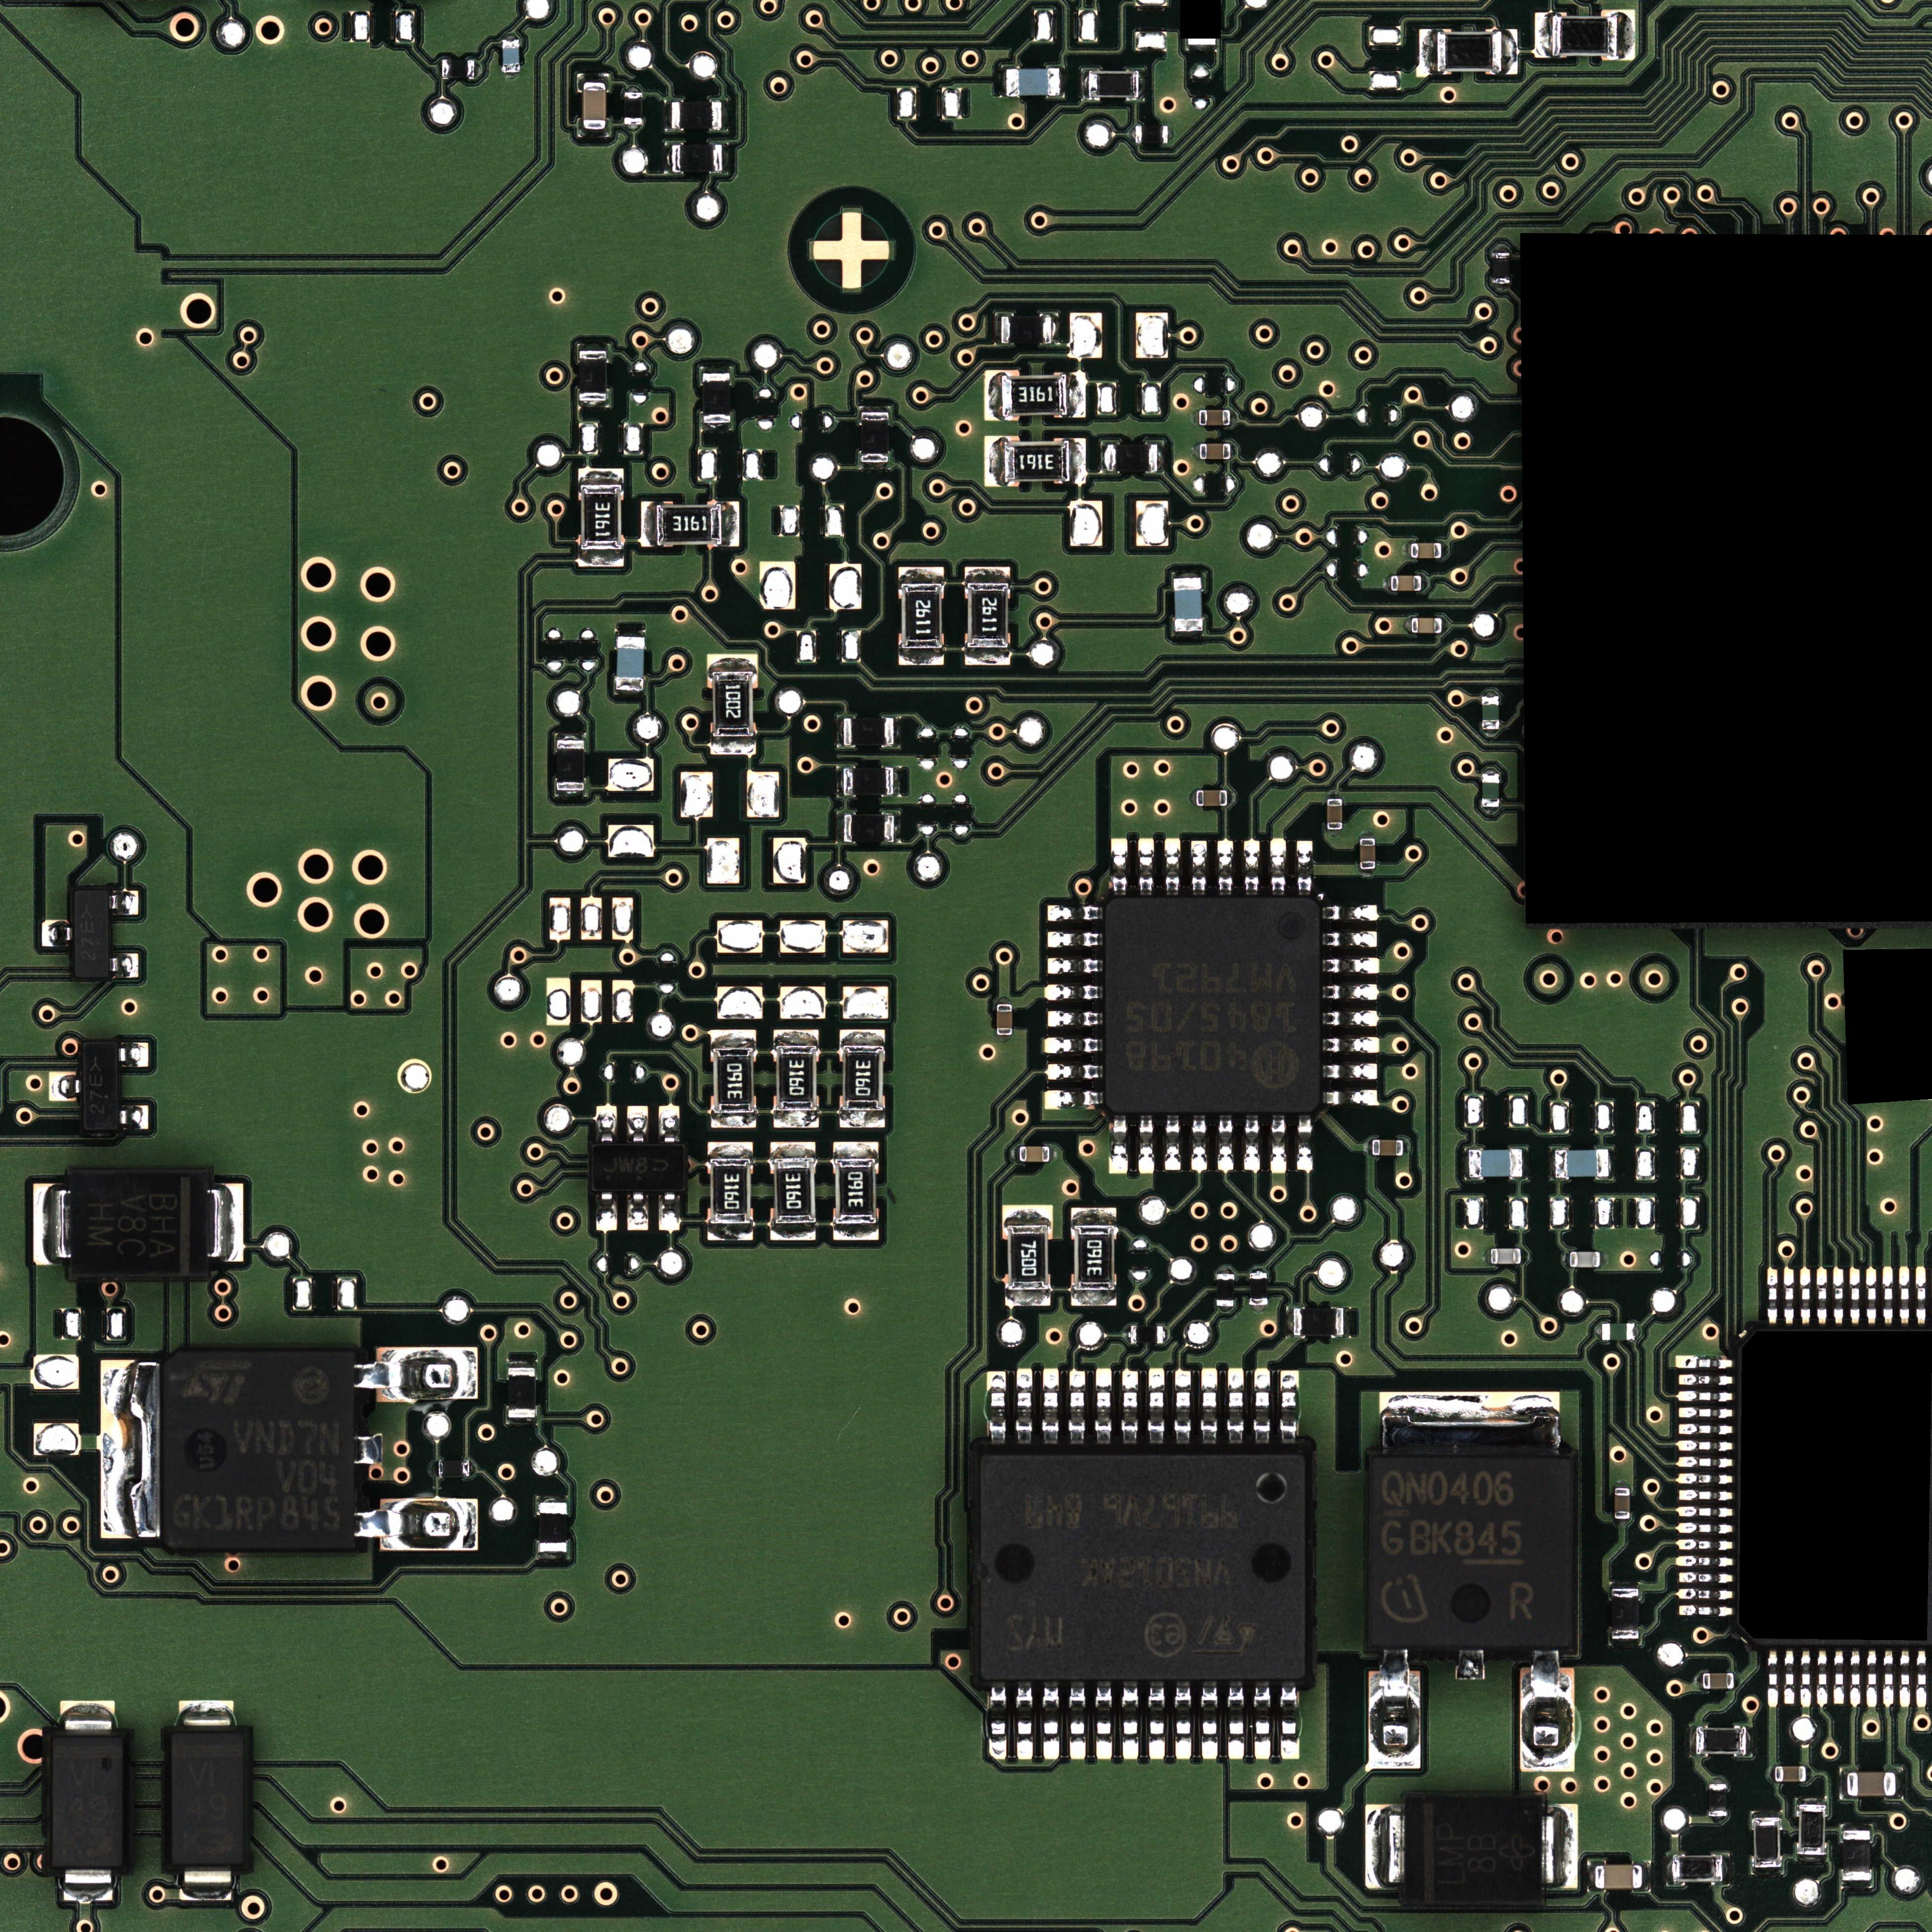Package: (980, 1453, 1304, 1683), (1104, 897, 1320, 1113), (1369, 1456, 1573, 1649), (165, 1348, 352, 1548), (1405, 1796, 1543, 1905), (71, 1171, 207, 1279), (172, 1732, 246, 1865), (51, 1736, 124, 1868), (591, 1143, 686, 1192), (74, 890, 110, 978), (83, 1042, 119, 1131), (1001, 375, 1067, 418), (711, 672, 754, 736), (1007, 1226, 1049, 1290), (901, 584, 941, 649), (580, 485, 621, 550), (656, 504, 722, 545), (1005, 442, 1070, 483), (709, 1159, 750, 1224), (835, 1159, 876, 1224), (842, 1046, 883, 1111), (1437, 32, 1502, 73), (1552, 16, 1617, 57), (968, 584, 1008, 648), (713, 1049, 754, 1113), (1074, 1226, 1115, 1290), (775, 1159, 814, 1224), (777, 1046, 816, 1111), (1468, 1150, 1523, 1178), (616, 637, 644, 690), (1175, 579, 1203, 632), (1555, 1150, 1608, 1178), (842, 768, 893, 796), (579, 350, 607, 402), (556, 740, 584, 791), (671, 101, 722, 129), (1106, 444, 1157, 472), (1798, 1805, 1826, 1856), (1753, 1817, 1782, 1868), (1672, 1854, 1723, 1882), (1007, 69, 1060, 96), (844, 718, 893, 747), (844, 814, 893, 842), (702, 373, 731, 423), (672, 145, 722, 173), (1001, 317, 1051, 345), (508, 1368, 536, 1417), (540, 1502, 568, 1552), (1842, 1831, 1870, 1881), (1697, 1727, 1746, 1755), (1293, 1307, 1343, 1336), (862, 412, 888, 462), (1612, 1589, 1638, 1638), (1088, 73, 1138, 97), (1594, 1865, 1642, 1890), (1847, 1773, 1895, 1796), (584, 83, 607, 129), (441, 58, 474, 80), (1131, 1325, 1164, 1345), (1483, 773, 1500, 807), (1483, 695, 1500, 729), (1601, 1323, 1635, 1341), (1709, 1783, 1727, 1817), (1249, 1272, 1267, 1306), (1491, 253, 1511, 283), (502, 41, 520, 73), (625, 92, 642, 124), (1136, 126, 1168, 143), (1217, 1274, 1235, 1306), (996, 1003, 1012, 1035), (1410, 543, 1442, 559), (1196, 791, 1228, 807), (1702, 1674, 1734, 1690), (1775, 1766, 1806, 1782), (1614, 1488, 1629, 1520), (439, 1461, 469, 1477), (1391, 575, 1421, 591), (1200, 409, 1230, 425), (1327, 800, 1343, 830), (1412, 617, 1442, 633), (1019, 1146, 1049, 1162), (1569, 1251, 1599, 1267), (1373, 1139, 1403, 1155), (1361, 839, 1375, 869), (1200, 444, 1230, 458), (1491, 1249, 1522, 1263)
Solder: (1380, 1392, 1560, 1456), (99, 1361, 163, 1537), (1520, 1651, 1576, 1773), (354, 1346, 478, 1401), (354, 1497, 478, 1552), (1368, 1649, 1422, 1769), (1364, 1805, 1405, 1890), (34, 1184, 71, 1265), (1543, 1805, 1578, 1890), (207, 1184, 244, 1261), (60, 1700, 115, 1737), (179, 1865, 234, 1900), (179, 1700, 234, 1732), (62, 1868, 113, 1902), (1279, 1684, 1300, 1760), (1226, 1368, 1246, 1444), (1279, 1369, 1299, 1444), (987, 1371, 1007, 1444), (989, 1683, 1007, 1760), (1042, 1368, 1060, 1444), (1095, 1368, 1113, 1444), (1069, 1369, 1086, 1445), (1122, 1368, 1139, 1444), (1253, 1368, 1270, 1444), (1148, 1369, 1166, 1445), (1122, 1684, 1139, 1760), (1042, 1684, 1060, 1760), (1201, 1684, 1219, 1760), (1095, 1684, 1113, 1760), (1254, 1684, 1272, 1760), (1175, 1684, 1192, 1760), (1148, 1684, 1166, 1760), (1228, 1684, 1246, 1760), (1016, 1684, 1033, 1760), (1069, 1684, 1086, 1760), (1016, 1369, 1033, 1444), (1201, 1368, 1217, 1444), (1175, 1369, 1191, 1444), (1109, 1115, 1129, 1175), (1044, 1090, 1102, 1109), (984, 435, 1003, 488), (1322, 957, 1380, 975), (1138, 1116, 1155, 1175), (1044, 984, 1102, 1001), (1322, 984, 1380, 1001), (1044, 1037, 1102, 1054), (48, 1072, 81, 1102), (1138, 837, 1155, 893), (1322, 931, 1378, 948), (1191, 1116, 1208, 1173), (1323, 1010, 1380, 1028), (1164, 1115, 1182, 1171), (1323, 1037, 1380, 1054), (1001, 1205, 1053, 1224), (1617, 9, 1637, 60), (1111, 839, 1129, 893), (1047, 904, 1102, 922), (1323, 1063, 1378, 1081), (1047, 1010, 1102, 1028), (1674, 1353, 1734, 1369), (984, 370, 1001, 423), (1217, 1115, 1233, 1173), (1244, 1115, 1260, 1173), (708, 655, 759, 672), (1217, 839, 1233, 895), (1164, 839, 1180, 895), (1270, 1116, 1286, 1173), (1297, 1116, 1313, 1173), (1067, 372, 1086, 418), (1070, 1207, 1116, 1226), (1191, 840, 1207, 895), (1270, 839, 1286, 893), (1323, 906, 1378, 922), (1047, 931, 1102, 947), (1244, 839, 1260, 893), (1047, 957, 1102, 973), (1323, 1090, 1378, 1106), (1047, 1063, 1102, 1079), (354, 1437, 384, 1465), (577, 550, 625, 568), (709, 1030, 757, 1047), (706, 1224, 754, 1242), (1419, 28, 1437, 76), (1297, 840, 1313, 893), (658, 1192, 679, 1231), (596, 1192, 617, 1231), (1675, 1587, 1734, 1601), (1675, 1569, 1734, 1583), (1675, 1537, 1734, 1552), (722, 501, 740, 547), (899, 566, 945, 584), (709, 738, 755, 755), (964, 566, 1010, 584), (773, 1111, 819, 1129), (708, 1141, 754, 1159), (770, 1224, 816, 1242), (770, 1141, 816, 1159), (833, 1141, 879, 1159), (839, 1111, 885, 1129), (1534, 12, 1552, 58), (1677, 1605, 1734, 1619), (42, 920, 73, 947), (1458, 1649, 1484, 1679), (628, 1192, 649, 1230), (658, 1106, 679, 1143), (596, 1106, 617, 1143), (626, 1106, 648, 1143), (1674, 1555, 1734, 1568), (1674, 1522, 1734, 1534), (1674, 1506, 1734, 1518), (1674, 1472, 1734, 1484), (1674, 1456, 1734, 1468), (1674, 1488, 1734, 1500), (1674, 1440, 1734, 1453), (1674, 1422, 1734, 1435), (1674, 1407, 1734, 1419), (1674, 1391, 1734, 1403), (1674, 1373, 1734, 1385), (579, 469, 625, 485), (640, 501, 656, 547), (899, 649, 945, 665), (964, 649, 1010, 665), (839, 1030, 885, 1046), (773, 1030, 819, 1046), (711, 1113, 757, 1129), (833, 1224, 879, 1240), (1070, 439, 1086, 485), (1502, 28, 1518, 74), (1882, 1651, 1895, 1709), (1849, 1651, 1861, 1709), (1833, 1651, 1845, 1709), (1799, 1651, 1812, 1709), (1766, 1265, 1778, 1323), (1783, 1267, 1796, 1325), (1799, 1265, 1812, 1323), (1849, 1267, 1861, 1325), (1865, 1265, 1877, 1323), (1914, 1267, 1927, 1325), (110, 954, 138, 978), (110, 890, 138, 915), (119, 1044, 149, 1067), (120, 1106, 149, 1129), (1070, 1292, 1116, 1306), (1005, 1292, 1051, 1306), (1916, 1651, 1927, 1709), (1900, 1651, 1911, 1709), (1867, 1651, 1877, 1709), (1817, 1651, 1828, 1709), (1783, 1651, 1794, 1709), (1767, 1651, 1778, 1709), (1817, 1267, 1828, 1325), (1898, 1265, 1909, 1323), (1833, 1267, 1844, 1323), (1882, 1267, 1893, 1323), (577, 129, 610, 138), (577, 73, 609, 81), (577, 341, 609, 350), (701, 364, 732, 373), (701, 423, 732, 432), (893, 717, 902, 748), (893, 766, 902, 798), (893, 812, 902, 844), (835, 812, 844, 844), (835, 766, 844, 798), (506, 1417, 538, 1426), (1051, 313, 1060, 345), (1175, 568, 1201, 579), (1895, 1767, 1904, 1799), (616, 628, 646, 637), (508, 1359, 538, 1368), (1587, 1861, 1596, 1891), (1642, 1861, 1651, 1891), (1842, 1881, 1872, 1890), (1175, 632, 1203, 640), (1187, 44, 1215, 53), (1138, 67, 1145, 101), (1099, 441, 1106, 474), (663, 99, 671, 131), (722, 99, 729, 131), (663, 142, 671, 173), (837, 717, 844, 748), (536, 1495, 568, 1502), (1081, 69, 1088, 101), (1157, 442, 1164, 474), (994, 313, 1001, 345), (1286, 1306, 1293, 1338), (1752, 1810, 1783, 1817), (1840, 1767, 1847, 1799), (1752, 1868, 1783, 1875), (1796, 1856, 1828, 1863), (1796, 1798, 1828, 1805), (1746, 1725, 1753, 1757), (1665, 1854, 1672, 1886), (579, 402, 609, 409), (860, 405, 890, 412), (860, 464, 890, 471), (722, 143, 729, 173), (556, 732, 586, 740), (556, 791, 586, 798), (614, 690, 644, 697), (538, 1553, 568, 1560), (1000, 67, 1007, 97), (1343, 1307, 1350, 1338), (1610, 1582, 1640, 1589), (1610, 1638, 1640, 1645), (1842, 1824, 1872, 1831), (1688, 1725, 1695, 1755), (1723, 1854, 1730, 1884), (1608, 1146, 1614, 1180), (501, 32, 520, 41), (474, 60, 483, 80), (1491, 244, 1511, 253), (1070, 501, 1102, 506), (1463, 1148, 1468, 1180), (1523, 1148, 1529, 1180), (1550, 1148, 1555, 1180), (1060, 67, 1065, 97), (1403, 541, 1412, 559), (1442, 541, 1451, 559), (1187, 789, 1196, 807), (1228, 789, 1237, 807), (1493, 283, 1511, 292), (1483, 729, 1500, 738), (1483, 1247, 1491, 1265), (1522, 1247, 1530, 1265), (1599, 1251, 1608, 1269), (1614, 1479, 1631, 1488), (1327, 791, 1343, 800), (1382, 575, 1391, 591), (1421, 575, 1430, 591), (1403, 617, 1412, 633), (1442, 617, 1451, 633), (1049, 1146, 1058, 1162), (1483, 766, 1499, 775), (1483, 688, 1499, 697), (1695, 1674, 1704, 1690), (501, 73, 520, 80), (1168, 126, 1175, 145), (1215, 1267, 1235, 1274), (1249, 1306, 1269, 1313), (1215, 1306, 1235, 1313), (469, 1460, 476, 1477), (625, 85, 642, 92), (625, 124, 642, 131), (1129, 126, 1136, 143), (1483, 807, 1500, 814), (1594, 1323, 1601, 1341), (1562, 1251, 1569, 1269), (1635, 1323, 1642, 1341), (1709, 1776, 1727, 1783), (1734, 1674, 1743, 1688), (1709, 1817, 1727, 1824), (432, 1460, 439, 1476), (1192, 444, 1200, 460), (1230, 410, 1237, 426), (1359, 832, 1375, 839), (1327, 830, 1343, 837), (1364, 1139, 1371, 1155), (996, 1035, 1012, 1042), (1012, 1146, 1019, 1162), (996, 996, 1012, 1003), (1403, 1139, 1410, 1155), (1767, 1766, 1775, 1782), (1614, 1518, 1629, 1525), (1806, 1766, 1813, 1782), (435, 58, 441, 78), (1125, 1325, 1131, 1345), (1164, 1325, 1169, 1345), (1191, 410, 1198, 425), (1231, 444, 1238, 458), (1361, 869, 1375, 876), (1249, 1267, 1267, 1272), (476, 1348, 478, 1398)
